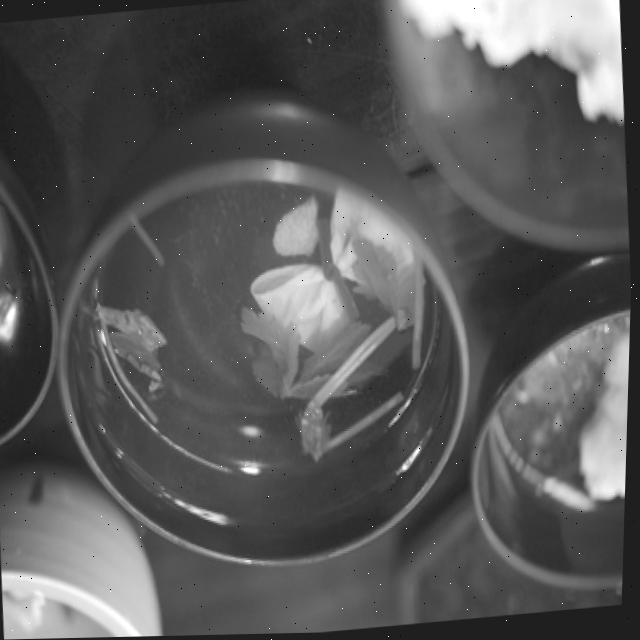汤锅炖物: (55, 118, 506, 584)
